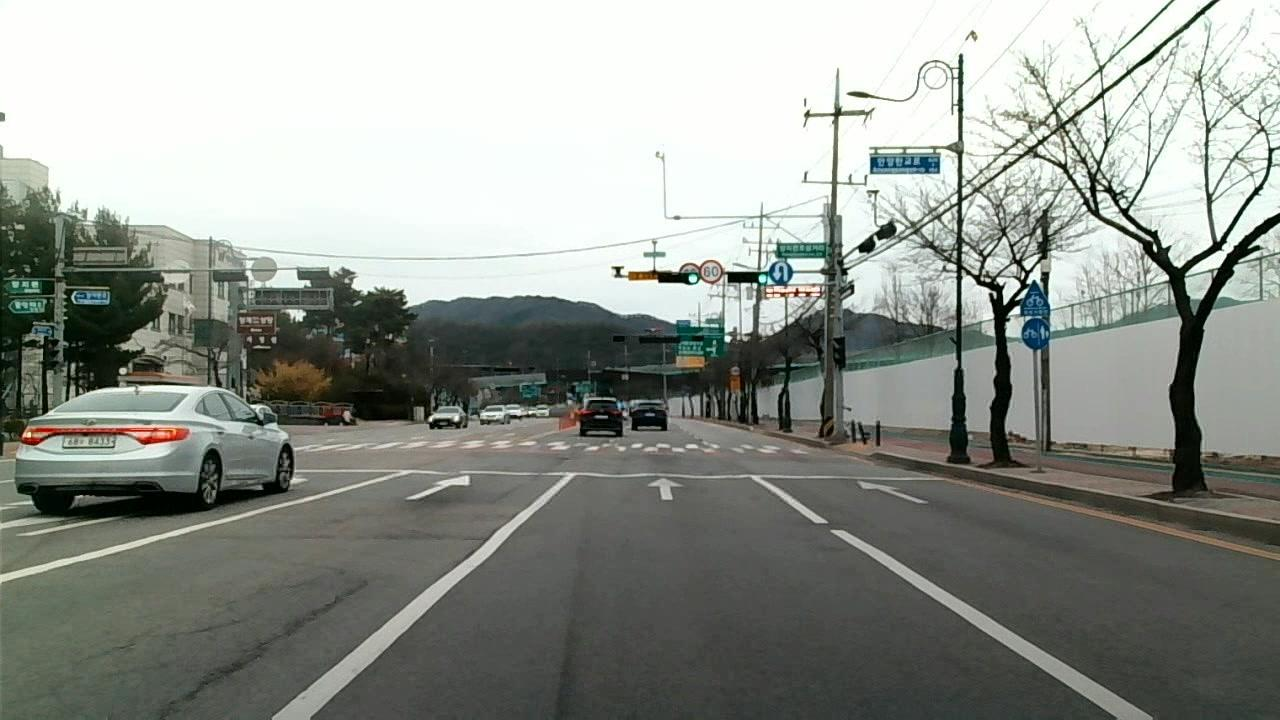vcrack: (177, 577, 355, 717)
